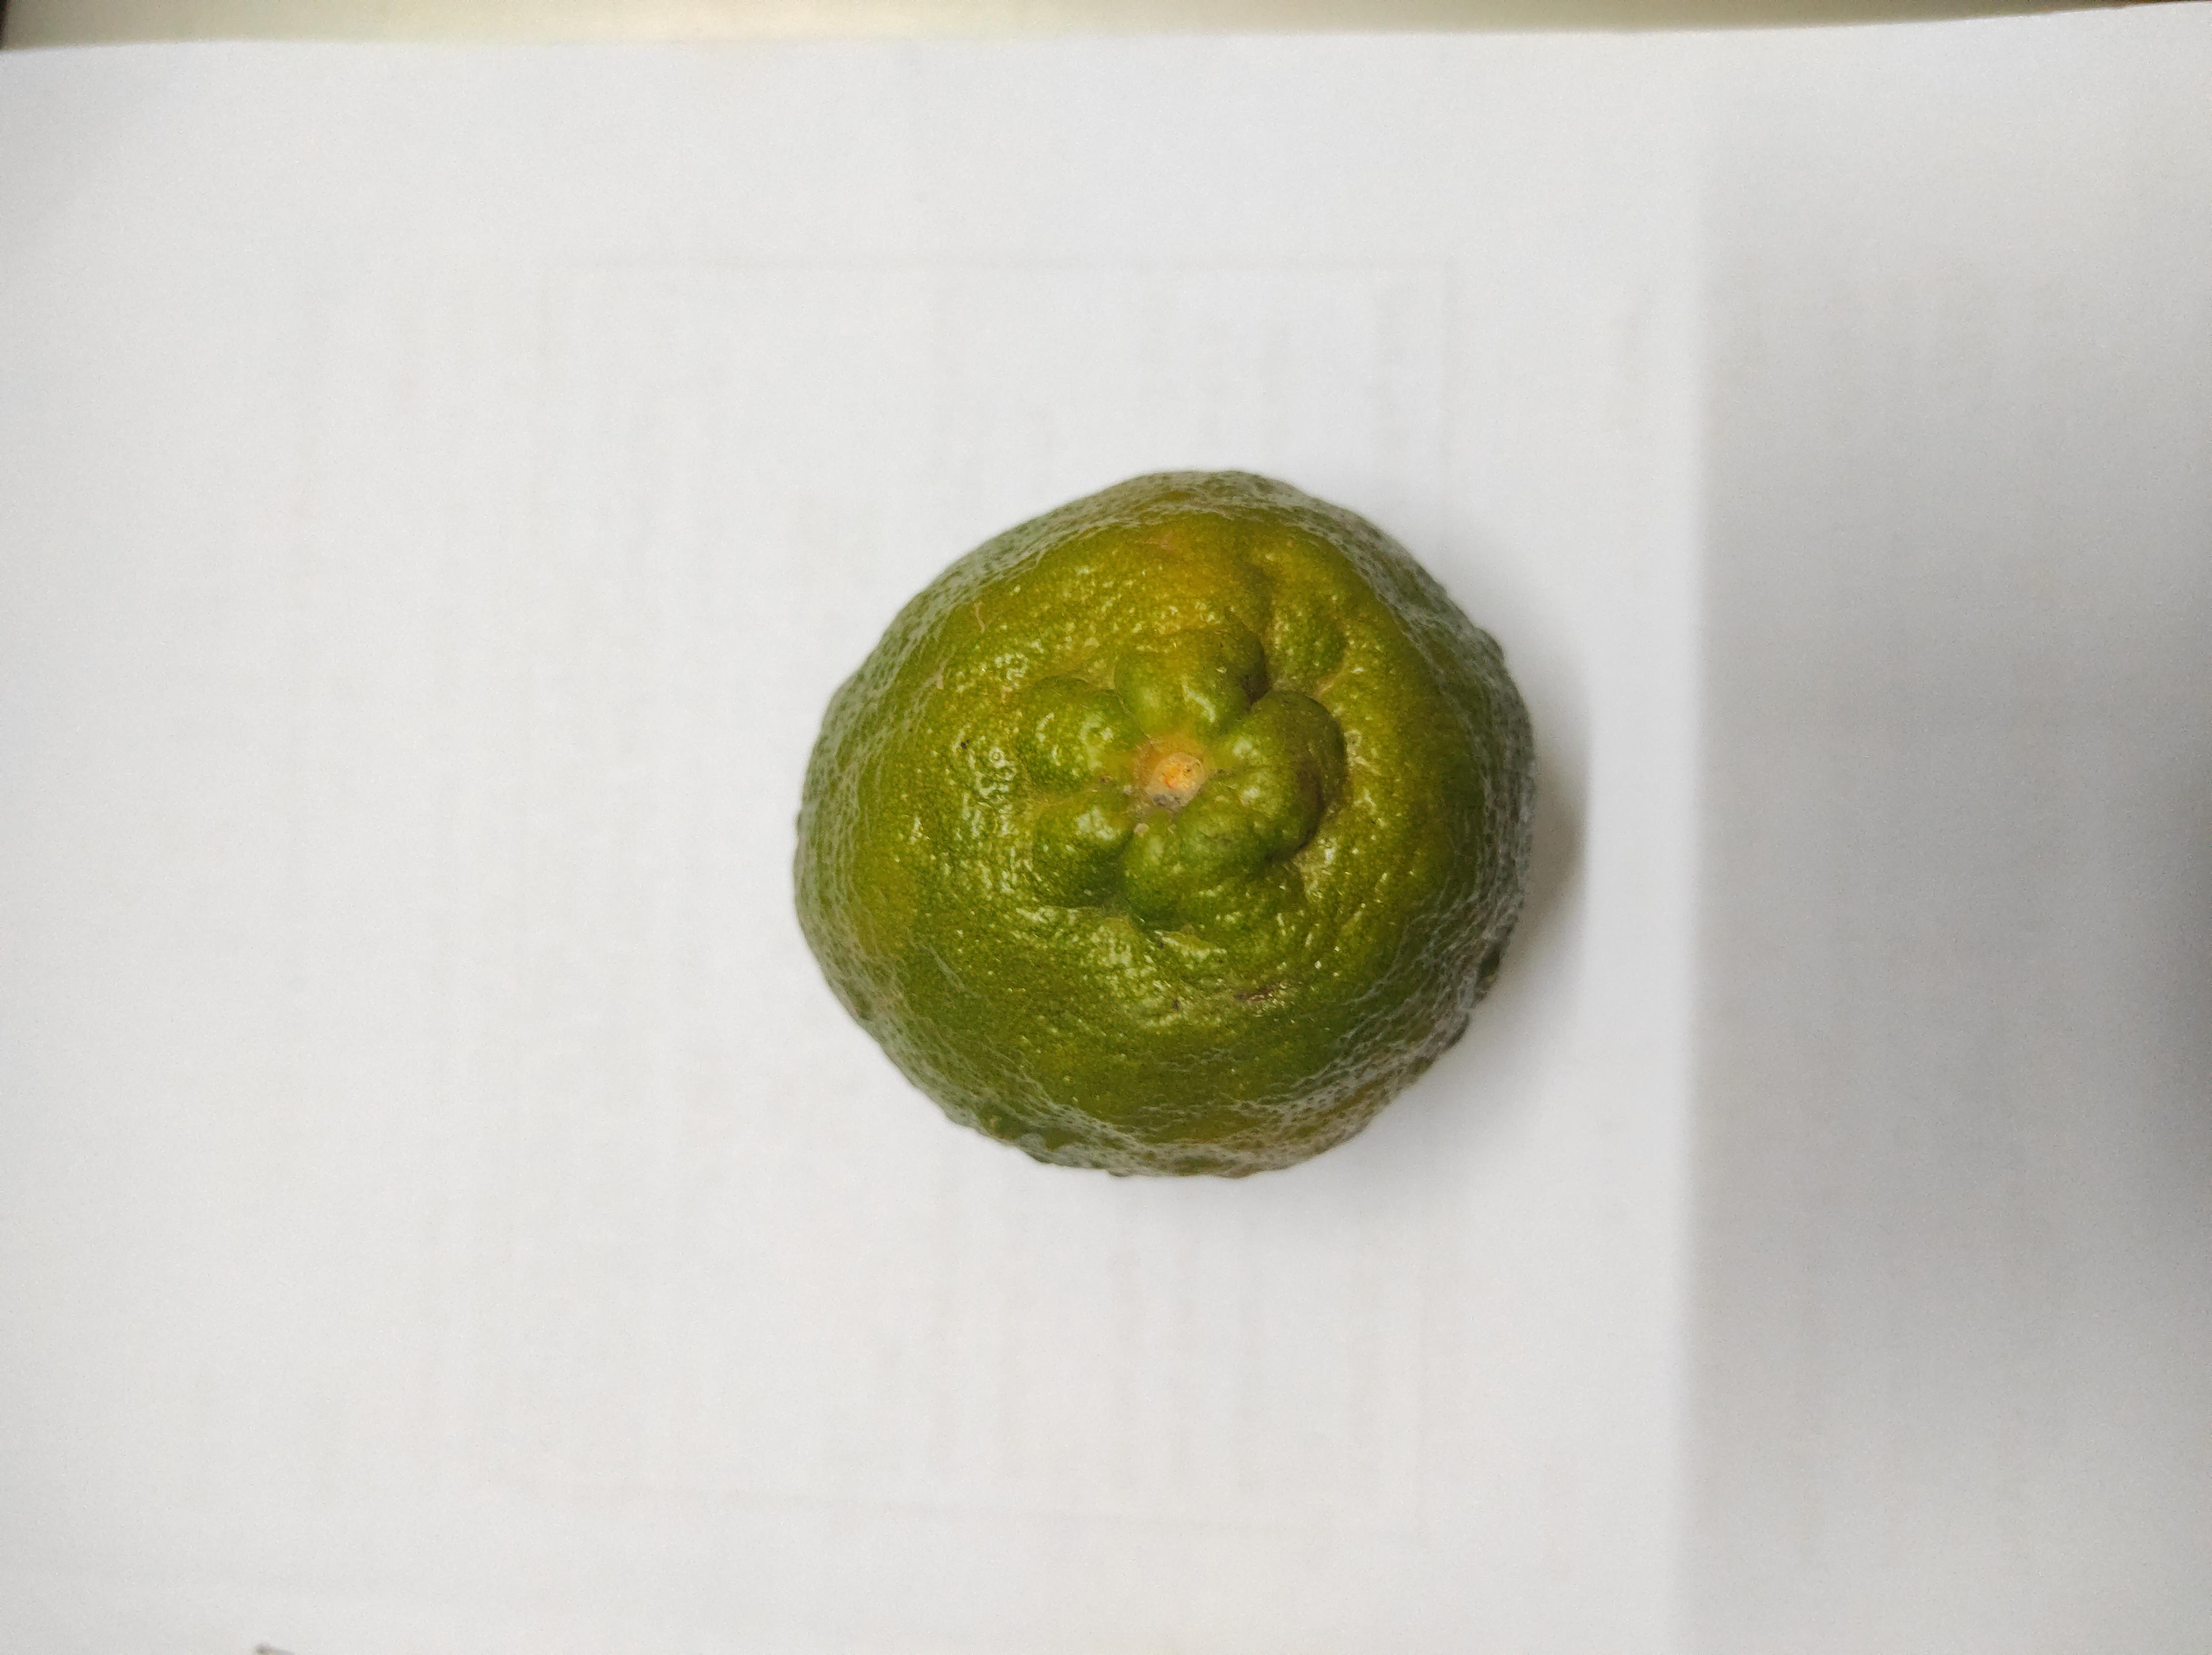Unripe: (676, 501, 1410, 1173)
